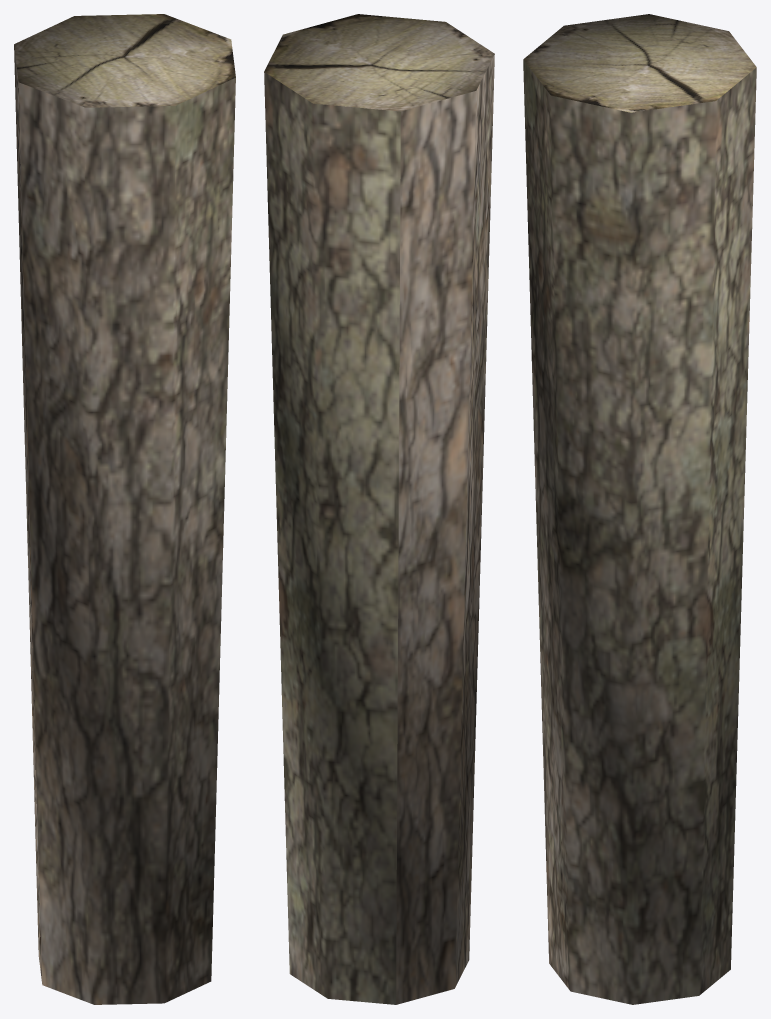
File: CercaRedonda.fbx
3 views of the same model, side by side, from view 1: azimuth 30°, elevation 25°; view 2: azimuth 150°, elevation 25°; view 3: azimuth 270°, elevation 25° (orthographic).
Parts seen in each view (by area): view 1: CercaRedonda; view 2: CercaRedonda; view 3: CercaRedonda.
Boxes of the visible parts, x1,y1,x2,y2 form: CercaRedonda: [14, 14, 235, 1004]; CercaRedonda: [264, 14, 494, 1004]; CercaRedonda: [523, 14, 756, 1004].
Bounding box in the file's own units: 60.23 × 60.23 × 257.
